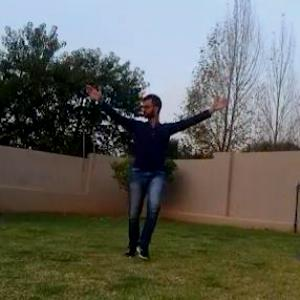takeoff: (73, 65, 228, 260)
